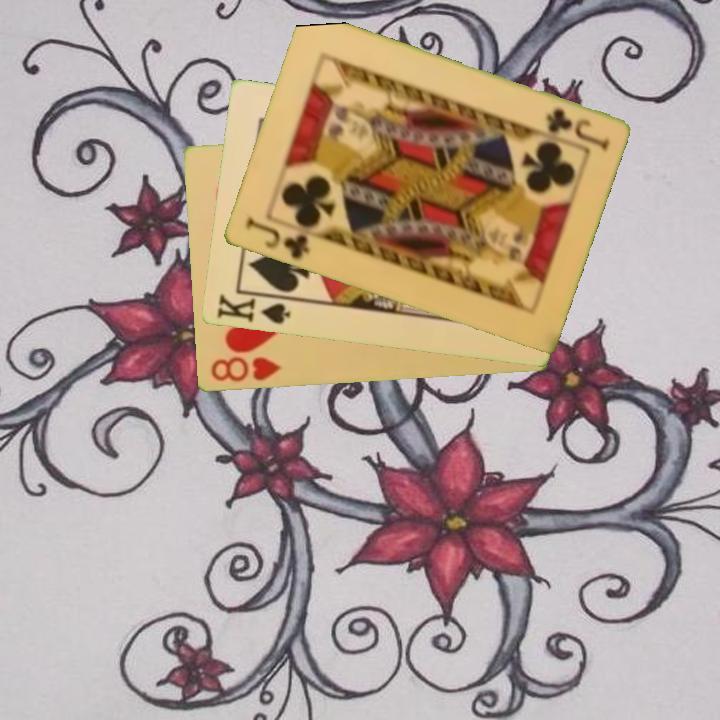8h: (207, 353, 284, 385)
Jc: (542, 105, 613, 153), (241, 215, 313, 262)
Ks: (213, 290, 297, 328)
